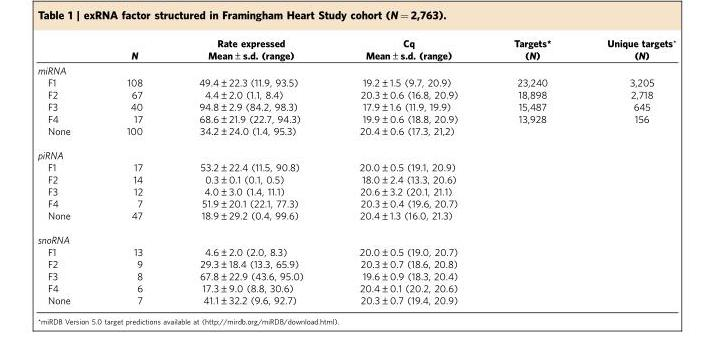table: (36, 37, 675, 305)
table column: (170, 37, 330, 305), (330, 37, 485, 305), (578, 37, 675, 305), (485, 37, 578, 305), (97, 37, 170, 305), (36, 37, 97, 305)
table column header: (36, 37, 675, 62)
table projected row header: (36, 142, 675, 160), (36, 227, 675, 245), (36, 62, 675, 75)
table row: (36, 208, 675, 227), (36, 124, 675, 142), (36, 142, 675, 160), (36, 227, 675, 245), (36, 48, 675, 62), (36, 62, 675, 75), (36, 111, 675, 124), (36, 75, 675, 87), (36, 87, 675, 99), (36, 99, 675, 111), (36, 160, 675, 172), (36, 172, 675, 184), (36, 184, 675, 196), (36, 196, 675, 208), (36, 245, 675, 257), (36, 257, 675, 269), (36, 269, 675, 281), (36, 281, 675, 293), (36, 293, 675, 305), (36, 37, 675, 48)
table spanning cell: (170, 37, 330, 62), (330, 37, 485, 62), (578, 37, 675, 62), (485, 37, 578, 62), (97, 37, 170, 62)
